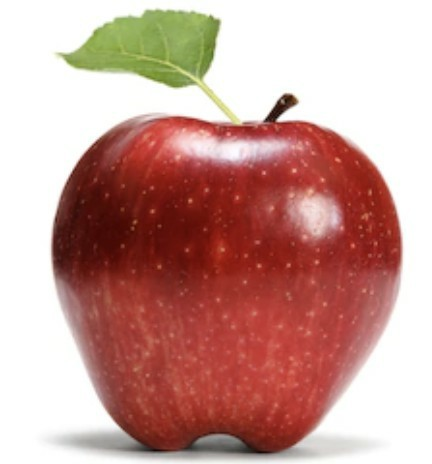fresh_apple: (54, 115, 406, 447)
